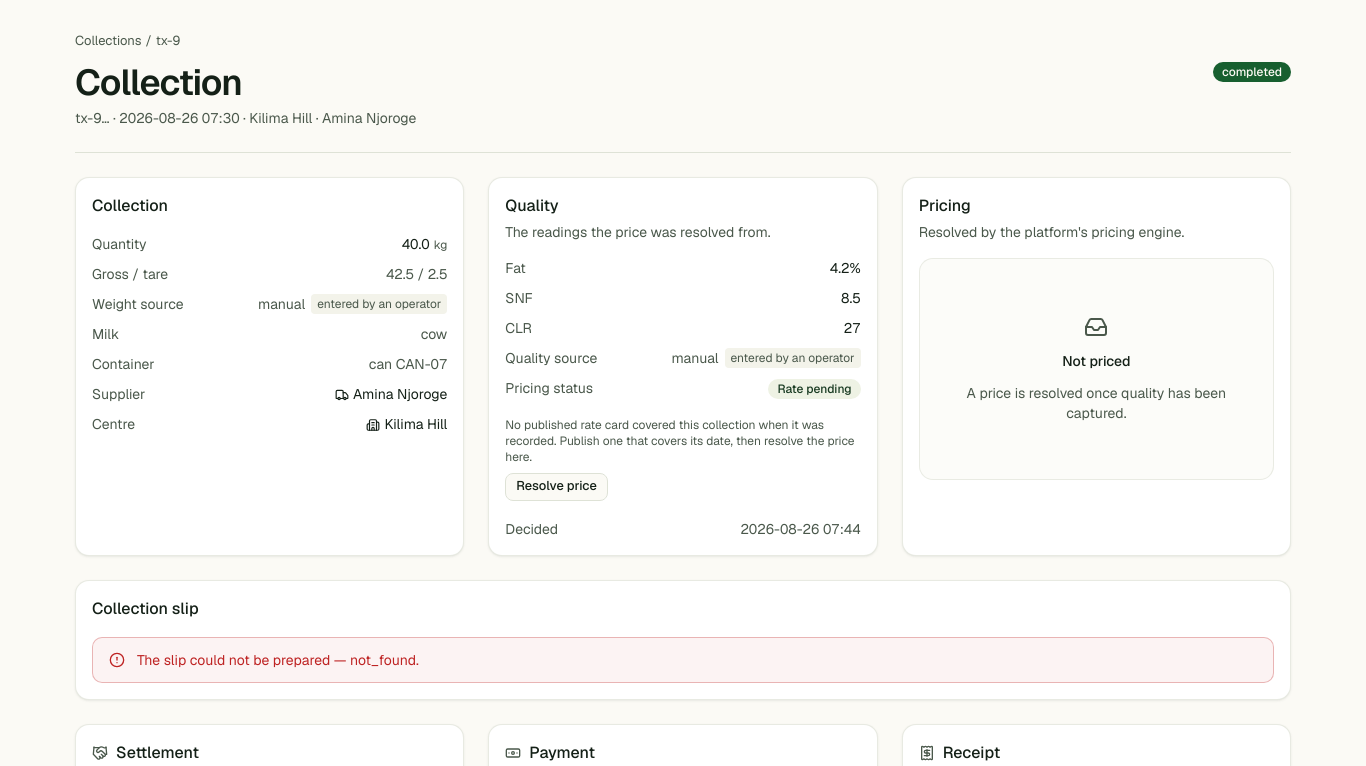
Test: a rate-pending collection in detail › shows the platform's reason on refusal, and stays Rate pending
The width and height of the screenshot is (1366, 766).
Click the button "Resolve price": click(557, 487) [505,473,608,501]
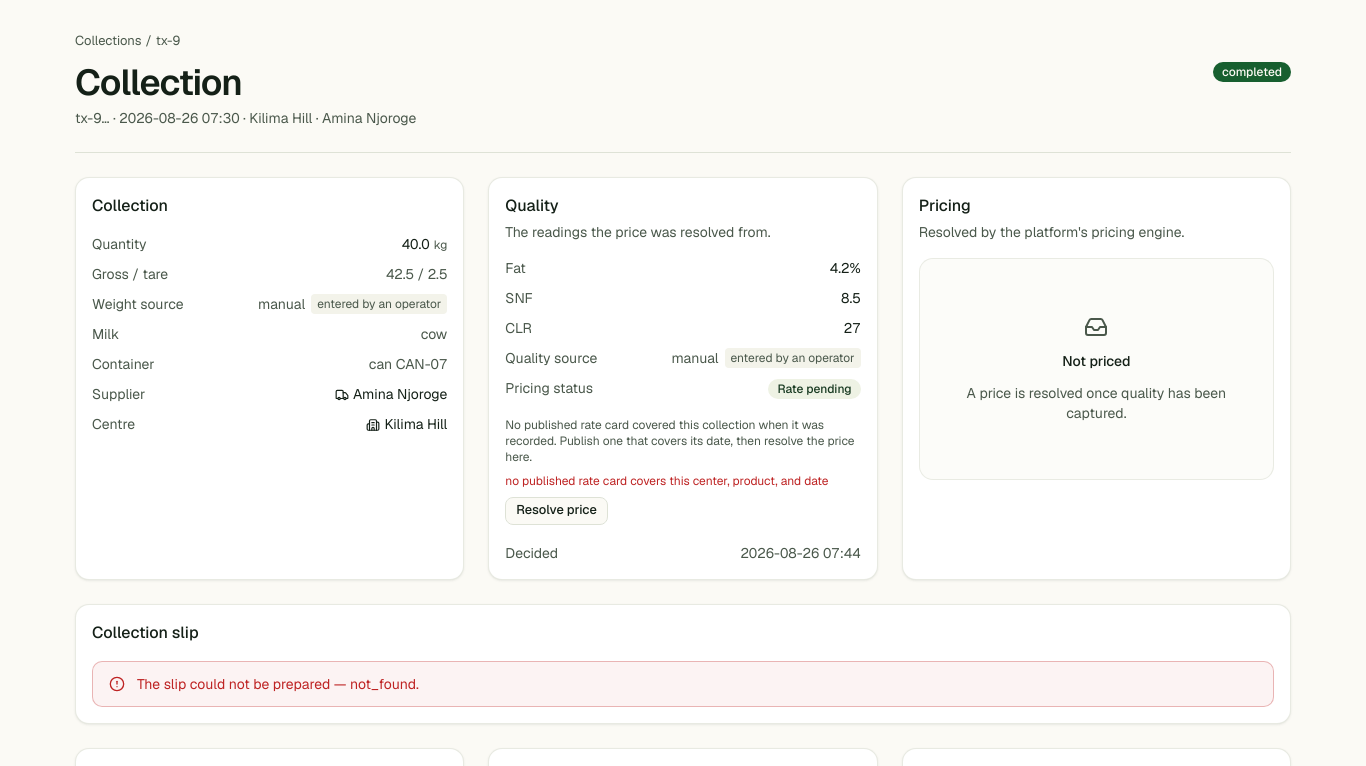
Check: the button "Resolve price" is shown, box [505,497,608,525]
Check: the text "no published rate card covers this center, product, and date" is shown, box [505,473,861,489]
